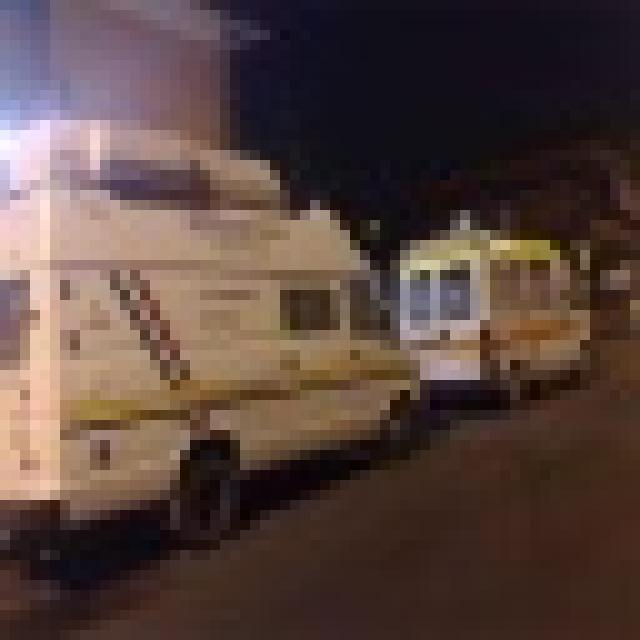Ambulance: (0, 110, 420, 560)
